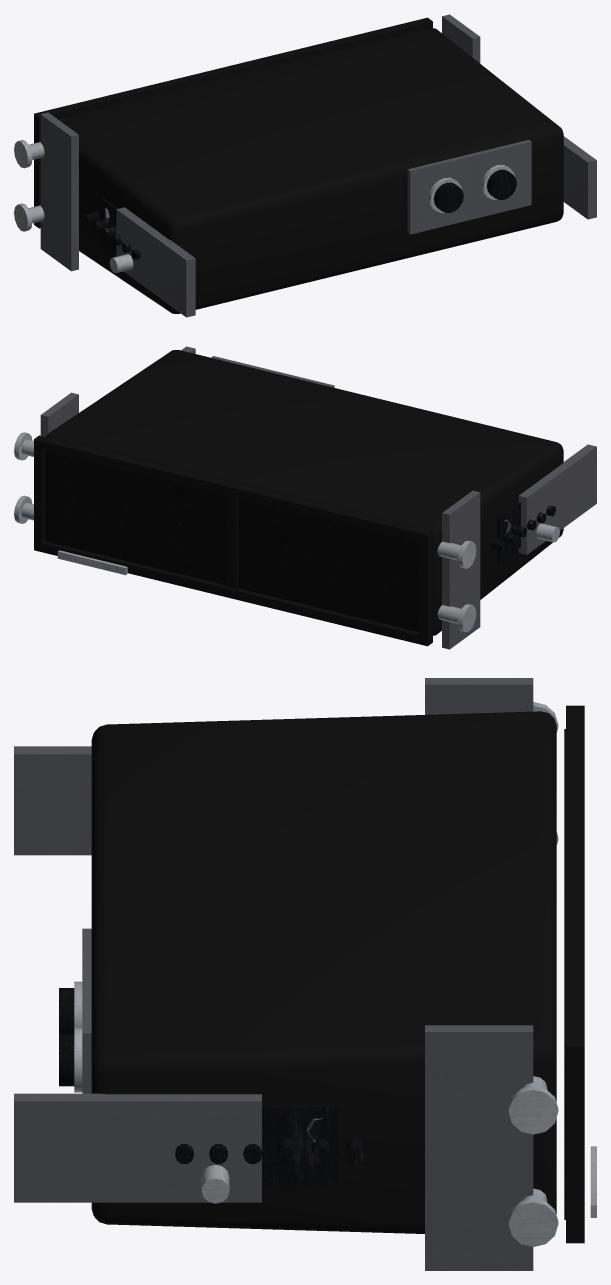
The model's file is line_array_mini.gltf.
3 views of the same model, one above another, from view 1: azimuth 30°, elevation 25°; view 2: azimuth 150°, elevation 25°; view 3: azimuth 270°, elevation 25° (orthographic). The views are drawn at different scales.
Parts seen in each view (by area): view 1: line_array_mini; view 2: line_array_mini; view 3: line_array_mini.
Part boxes in pixels (<box>): line_array_mini: <box>14,14,596,317</box>; line_array_mini: <box>14,346,596,649</box>; line_array_mini: <box>14,678,596,1270</box>.
Size of the model in its own units: 0.592 by 0.17 by 0.376.
Materials: 5 (5 with a texture image).
